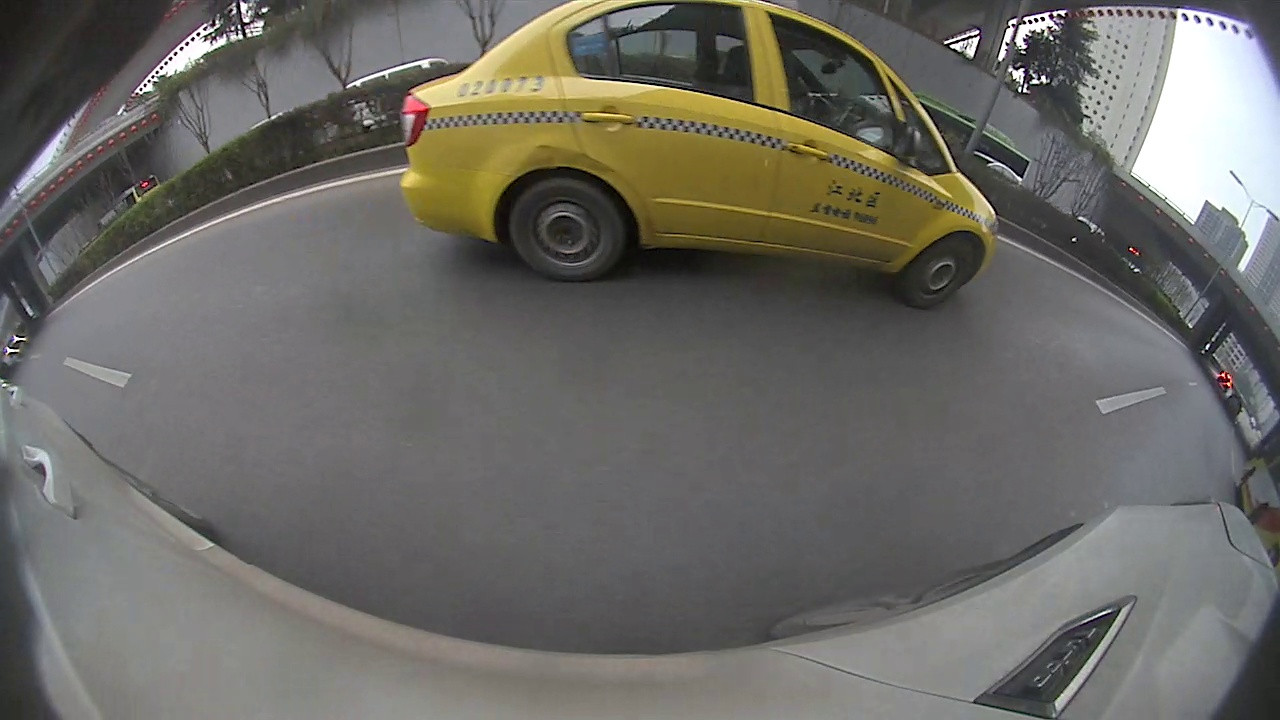car: (398, 2, 996, 309)
front: (901, 233, 976, 310)
rear: (505, 175, 628, 281)
